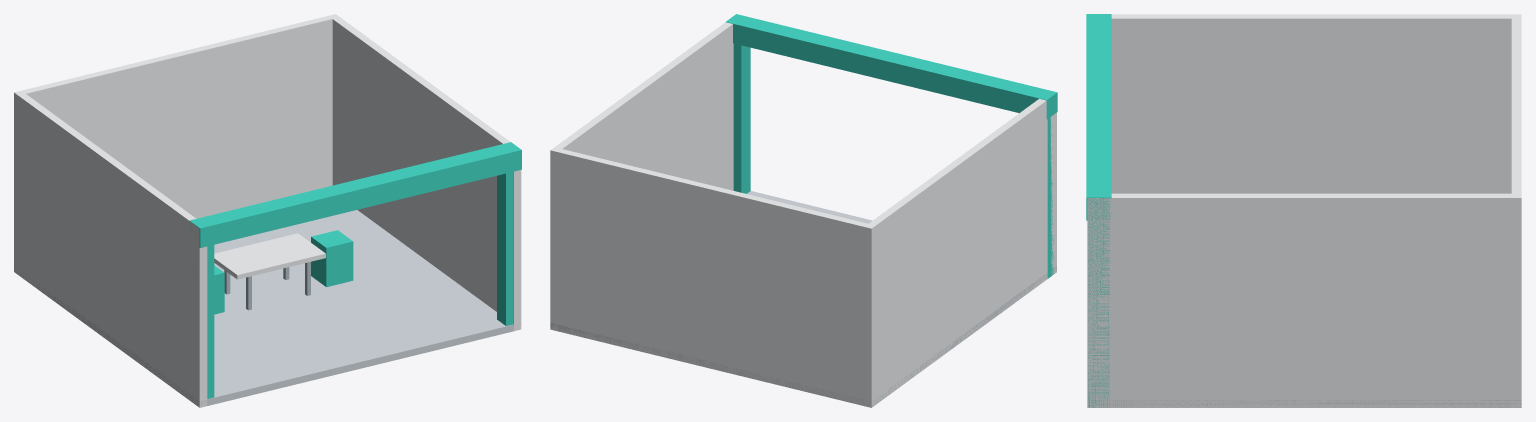
3 views of the same model, side by side, from view 1: azimuth 30°, elevation 25°; view 2: azimuth 150°, elevation 25°; view 3: azimuth 270°, elevation 25° (orthographic). The views are drawn at different scales.
Visible parts, largest first — view 1: Exhibition Booth Concept; view 2: Exhibition Booth Concept; view 3: Exhibition Booth Concept.
Boxes of the visible parts, left/top/right/bottom form: Exhibition Booth Concept: left=14, top=14, right=521, bottom=407; Exhibition Booth Concept: left=550, top=14, right=1057, bottom=407; Exhibition Booth Concept: left=1086, top=14, right=1521, bottom=407.
Size of the model in its own units: 6 by 3.2 by 6.02.
